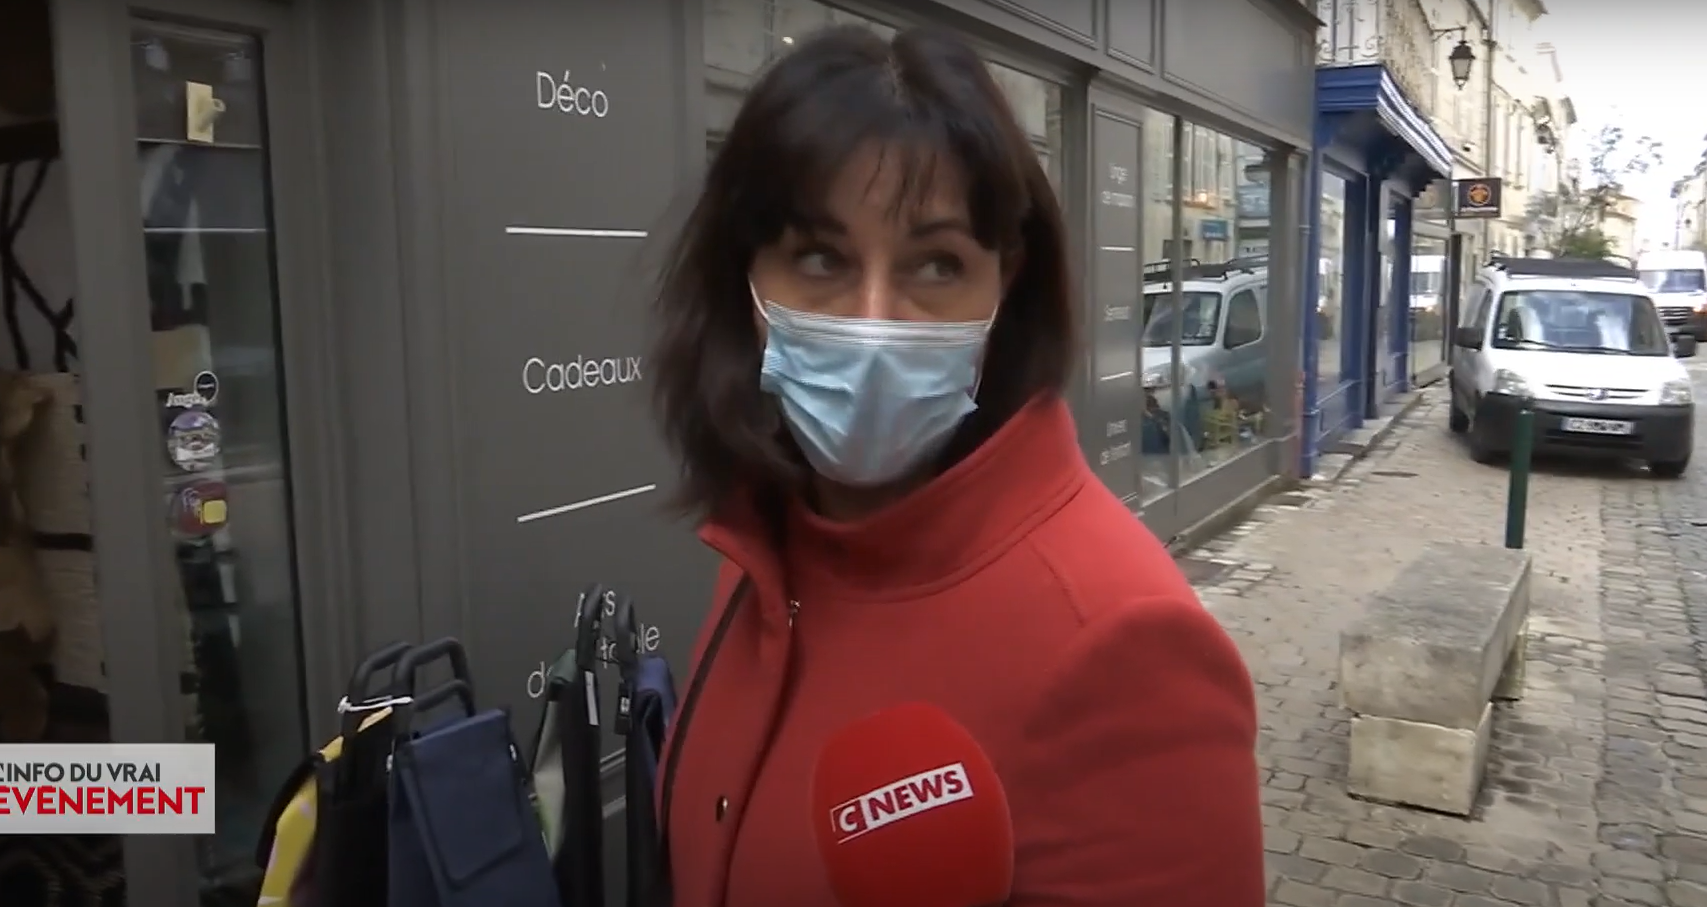with_mask: (766, 214, 988, 497)
